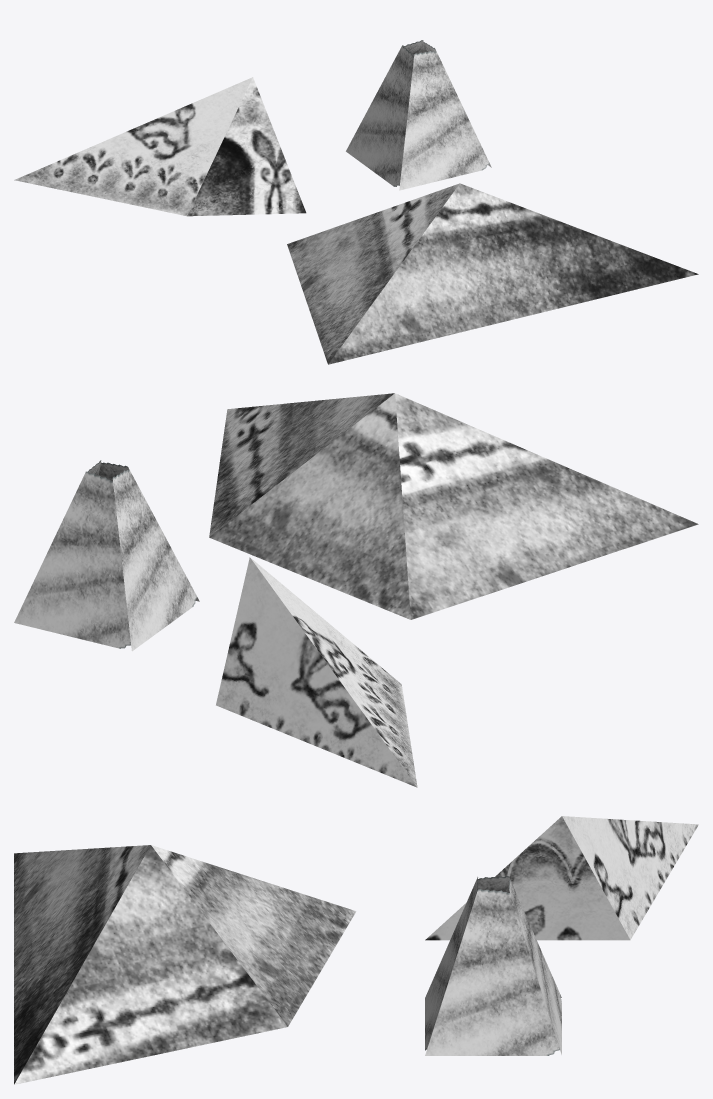
Rendered from vase_broken.obj.
The picture shows the model from 3 angles, top to bottom: view 1: azimuth 30°, elevation 25°; view 2: azimuth 150°, elevation 25°; view 3: azimuth 270°, elevation 25°; orthographic projection. The views are drawn at different scales.
Parts seen in each view (by area): view 1: pyramid; view 2: pyramid; view 3: pyramid.
Part boxes in pixels (x1,y1,x2,y2): pyramid: (14,40,698,364); pyramid: (14,393,698,787); pyramid: (14,816,698,1084).
Bounding box in the file's own units: 9 × 3 × 10.
